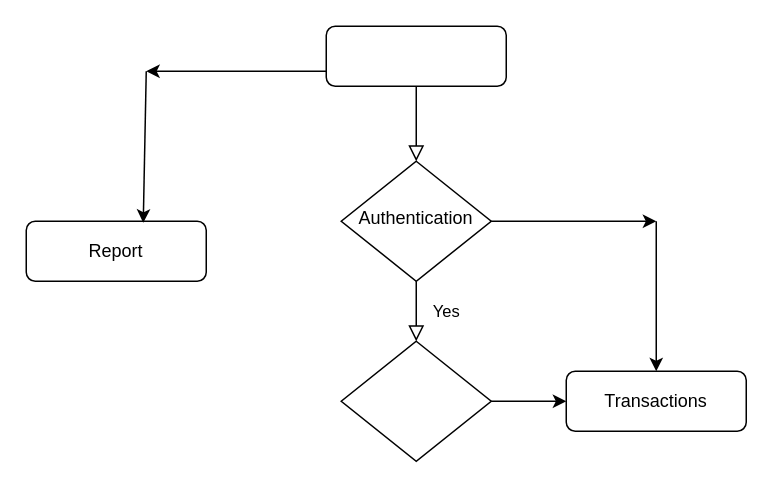
Image size: 773x488. Some labels were removed from this diagram. Each missing label, with the centre of its shape:
"Currency Conversion" belongs at (415,400).
"User" belongs at (415,55).
